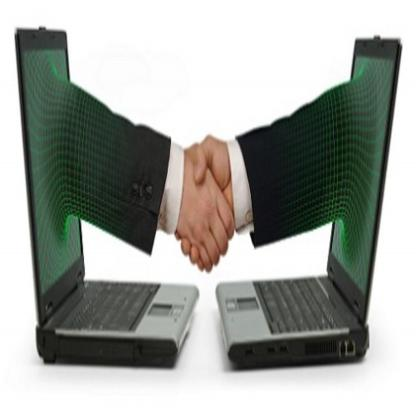board: (15, 28, 202, 371), (214, 39, 402, 366)
